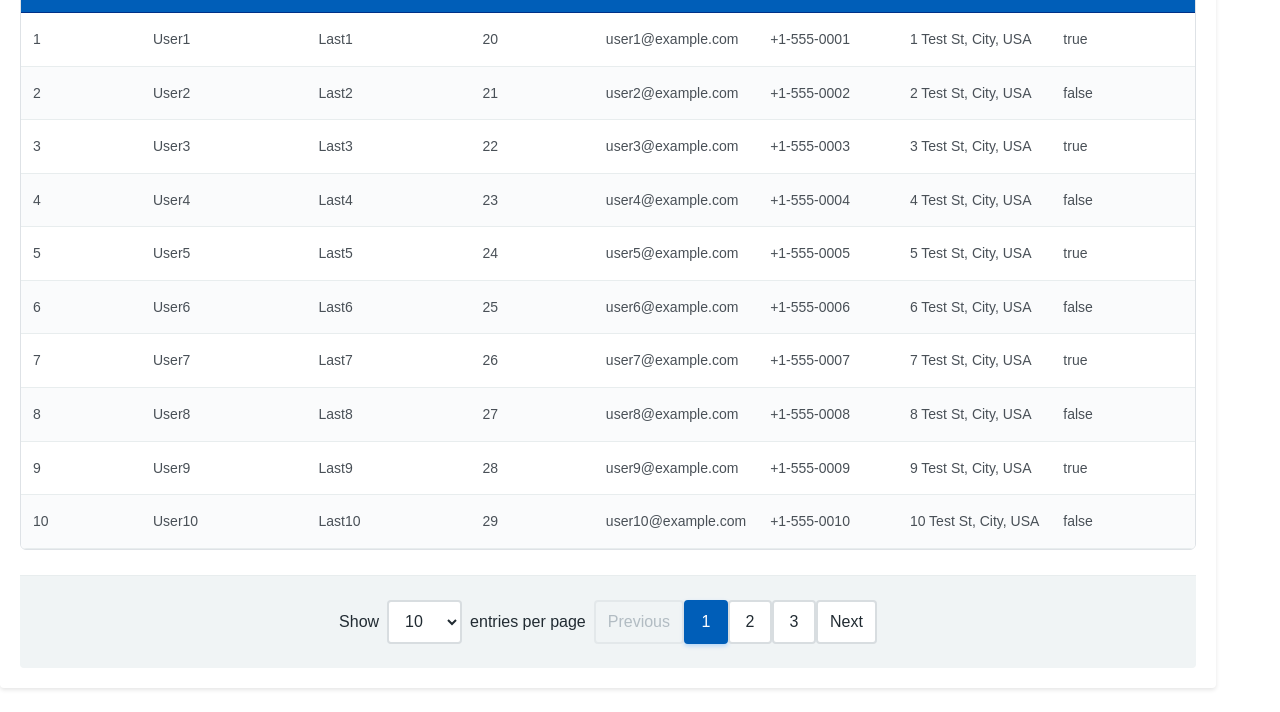
Test: DataTable Component › Pagination › navigates to next page when next button is clicked
(page scrolled)
Click the button "Next" at x=846, y=622, box [816,600,877,644]
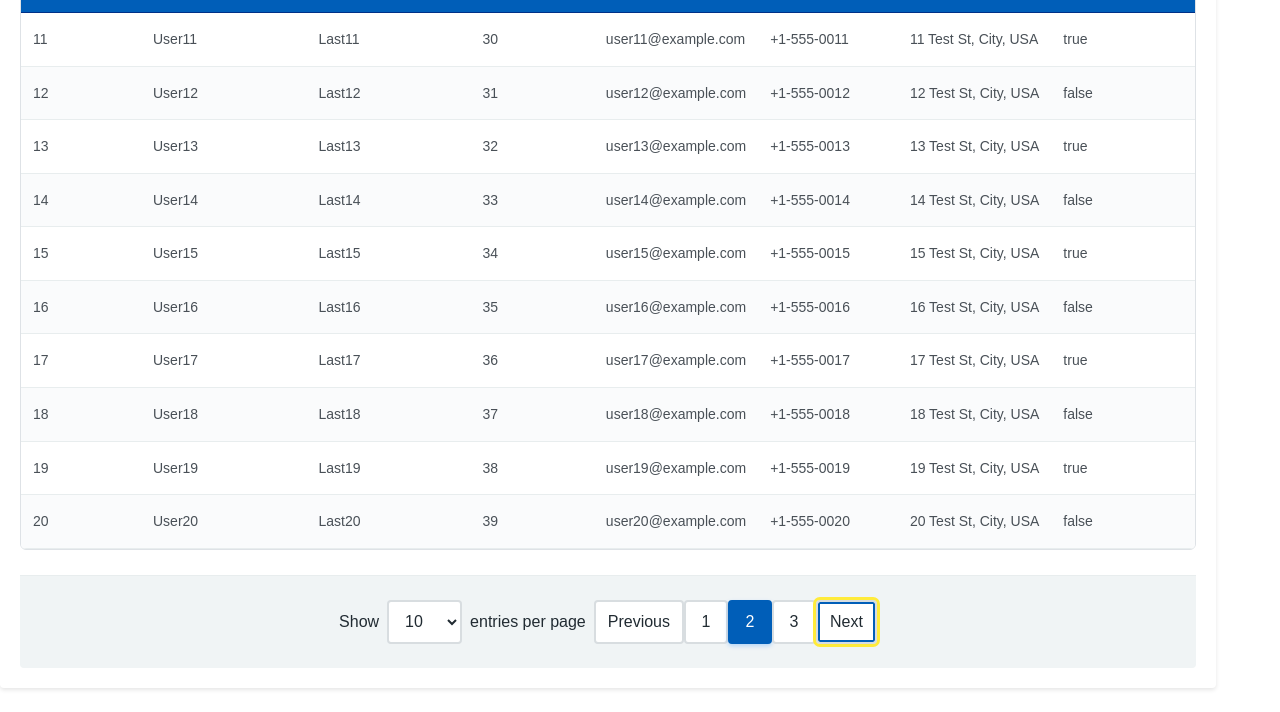
Result: the text "User11" is shown at [141,12,306,66]
